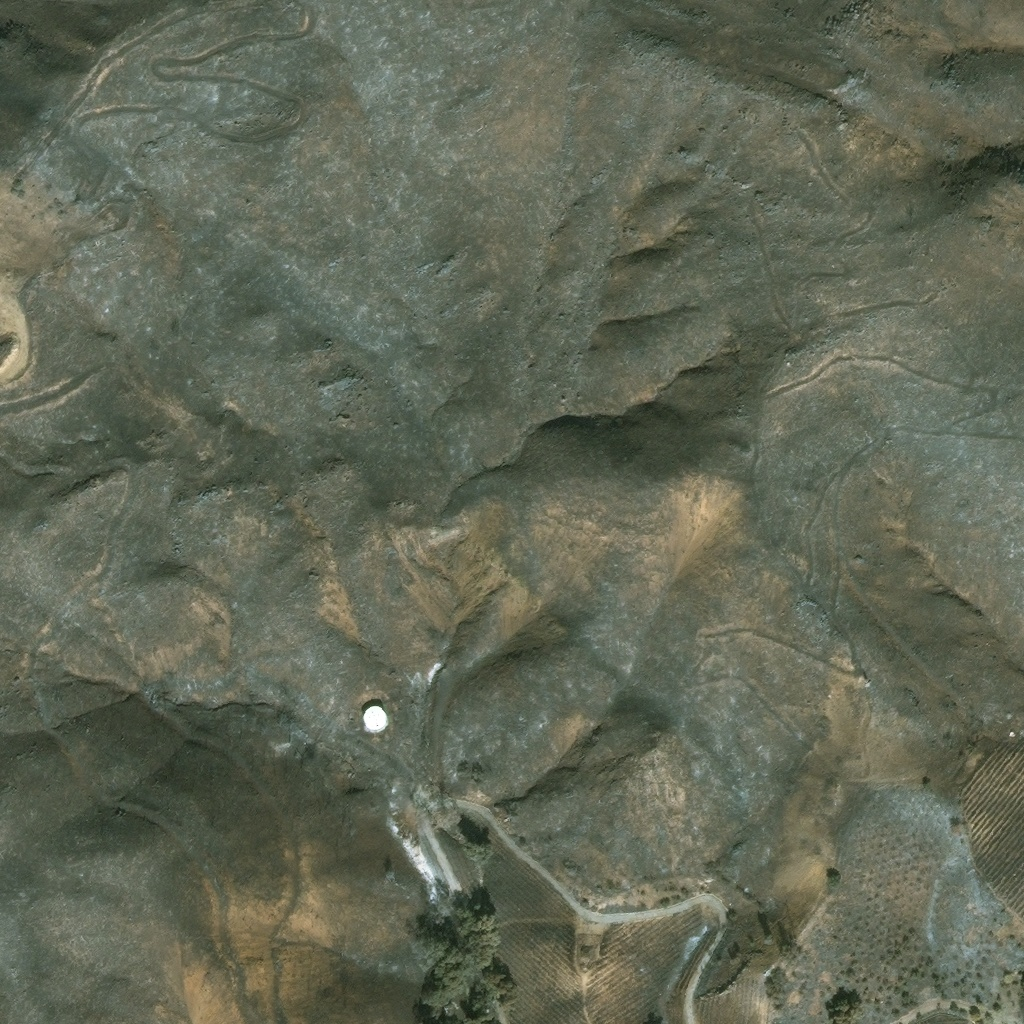0 no-damage: (361, 704, 386, 730)
